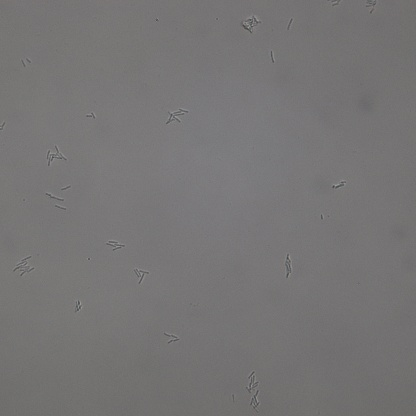R(colony): (13, 256, 35, 278), (46, 145, 69, 165), (167, 108, 189, 122), (241, 17, 260, 33), (247, 365, 258, 390), (250, 392, 261, 414), (135, 269, 149, 285), (107, 239, 124, 252), (285, 253, 293, 278), (164, 333, 180, 344), (365, 1, 377, 13), (331, 181, 346, 190), (20, 58, 32, 67), (73, 300, 82, 312), (86, 112, 96, 119)
